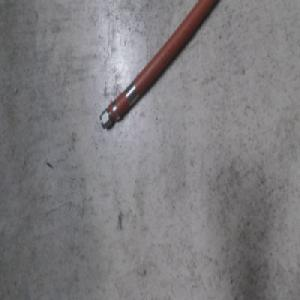Hose: (97, 0, 220, 131)
